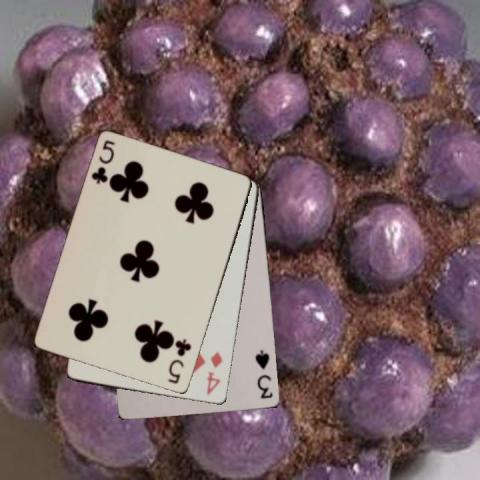3s: (252, 348, 274, 401)
4d: (203, 349, 224, 396)
5c: (88, 137, 117, 186), (164, 336, 192, 385)
